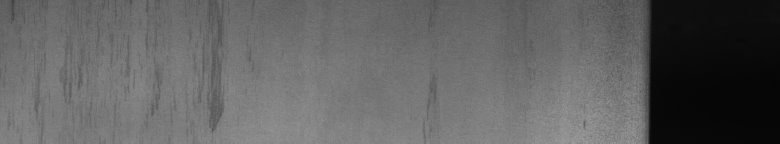ka: (152, 29, 224, 132)
